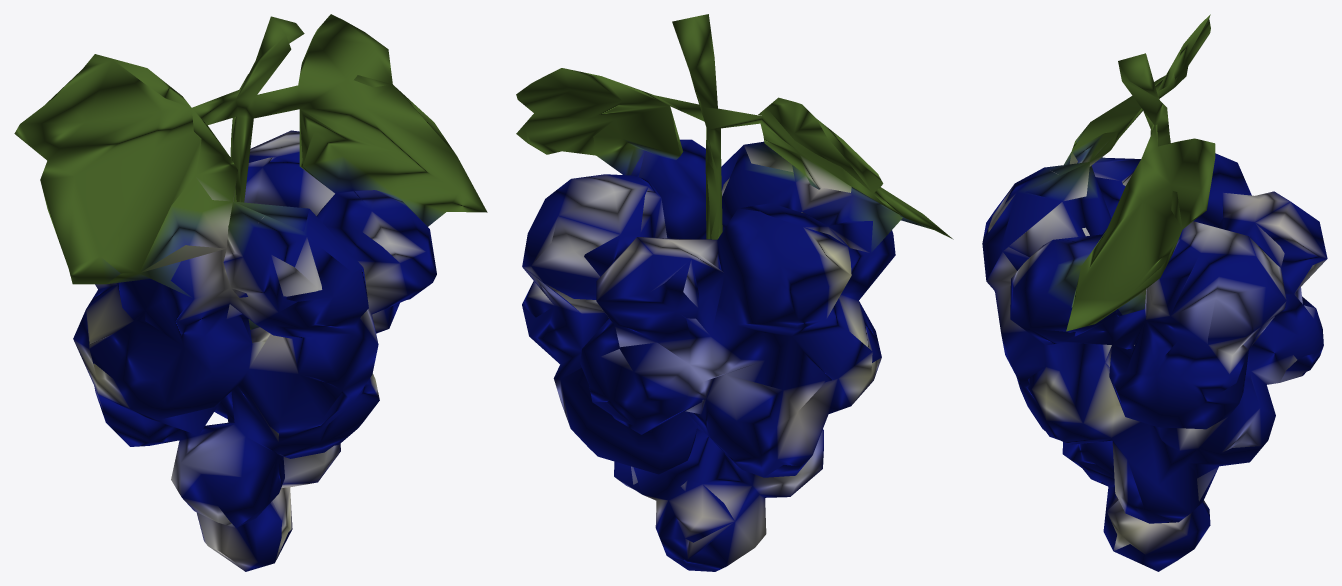
Rendered from gen3d-bunch-of-grape-lod0.glb.
3 views of the same model, side by side, from view 1: azimuth 30°, elevation 25°; view 2: azimuth 150°, elevation 25°; view 3: azimuth 270°, elevation 25° (orthographic). The views are drawn at different scales.
Parts seen in each view (by area): view 1: part_0; view 2: part_0; view 3: part_0.
Part boxes in pixels (x1,y1,x2,y2): part_0: (14, 14, 487, 571); part_0: (516, 14, 953, 571); part_0: (982, 14, 1327, 571).
Bounding box in the file's own units: 0.7725 × 0.9967 × 0.602.
